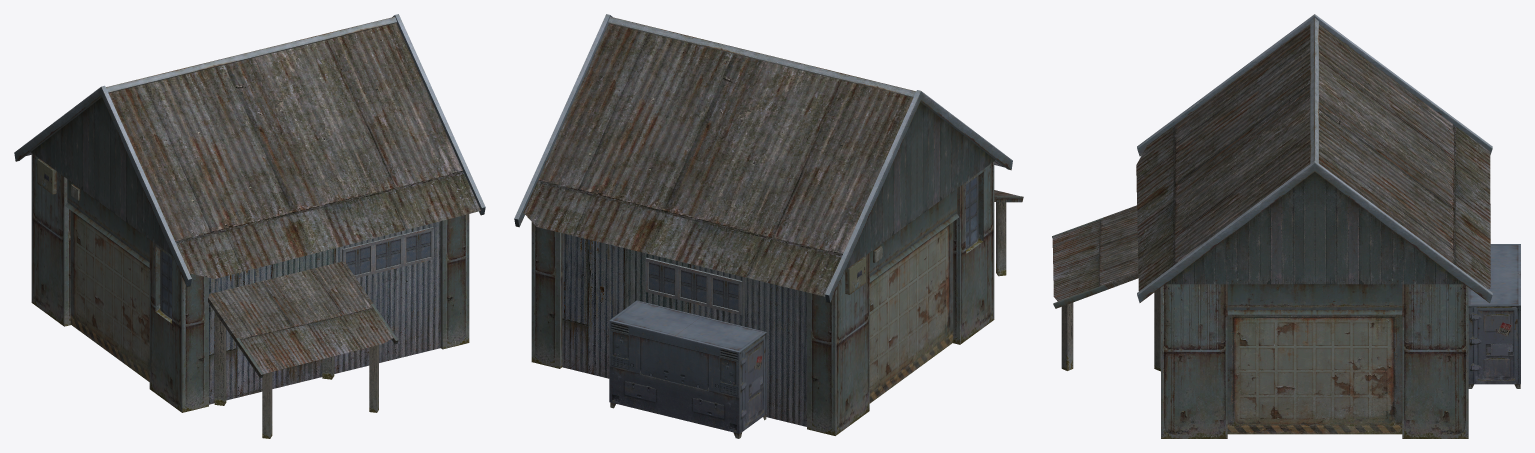
File: Building_Pve01XhtBuilding01_lod2.glb
The picture shows the model from 3 angles, left to right: view 1: azimuth 30°, elevation 25°; view 2: azimuth 150°, elevation 25°; view 3: azimuth 270°, elevation 25°; orthographic projection. The views are drawn at different scales.
Visible parts, largest first — view 1: pve01_xht_building01_lod2_0; view 2: pve01_xht_building01_lod2_0; view 3: pve01_xht_building01_lod2_0.
Part boxes in pixels (x1,y1,x2,y2): pve01_xht_building01_lod2_0: (14, 14, 485, 438); pve01_xht_building01_lod2_0: (514, 14, 1023, 438); pve01_xht_building01_lod2_0: (1052, 14, 1520, 438).
Bounding box in the file's own units: 10.64 × 9.32 × 14.2.
Materials: 2 (2 with a texture image).
